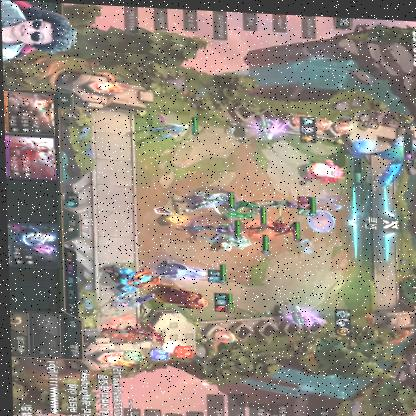streamer: (0, 0, 80, 70)
